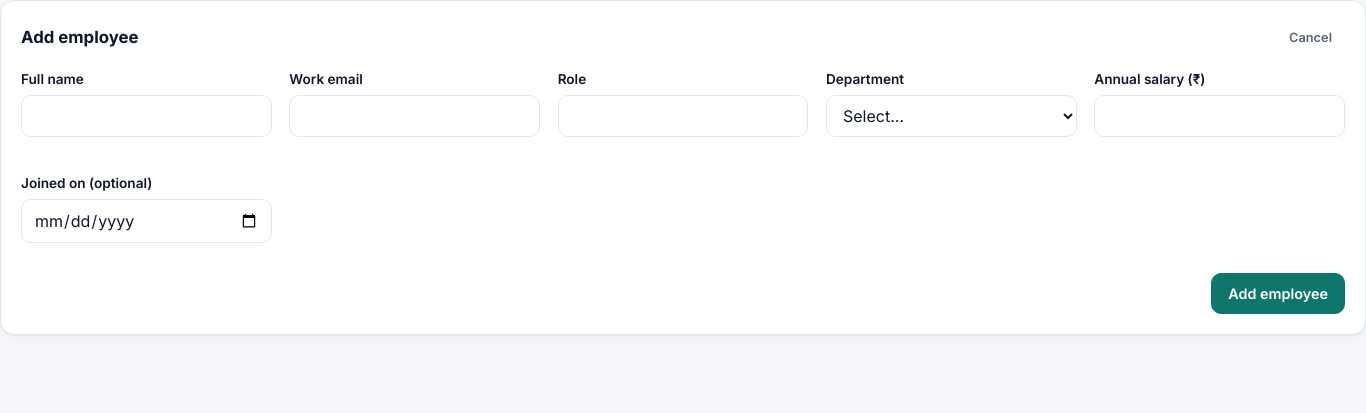
Test: EmployeeForm › shows other server errors at the top of the form
Type "  Asha Rao " into the field labelled "Full name". click: (146, 116)
box: x1=21 y1=95 x2=272 y2=137
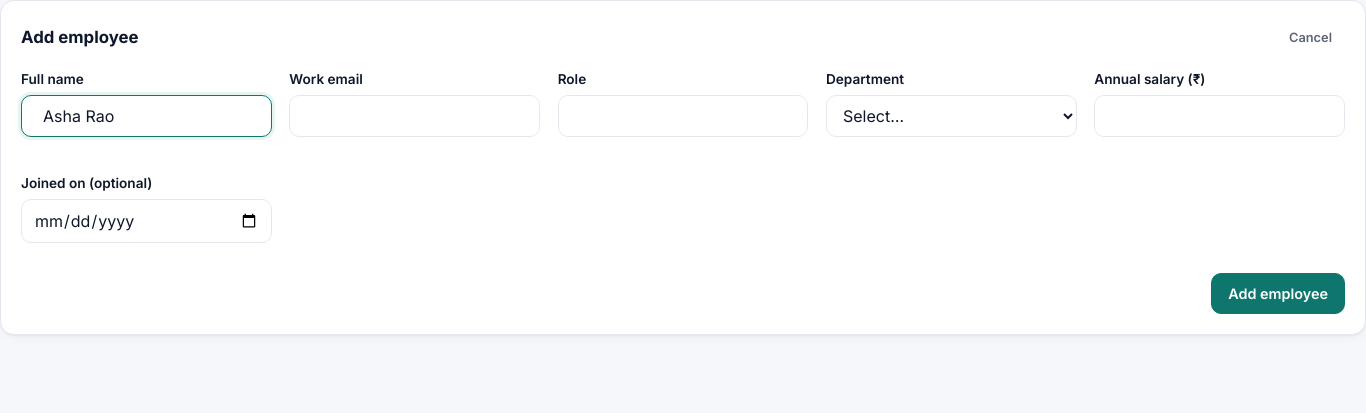
Type "asha.rao@teamdesk.dev" into the field labelled "Work email". click: (415, 116)
box: x1=289 y1=95 x2=540 y2=137
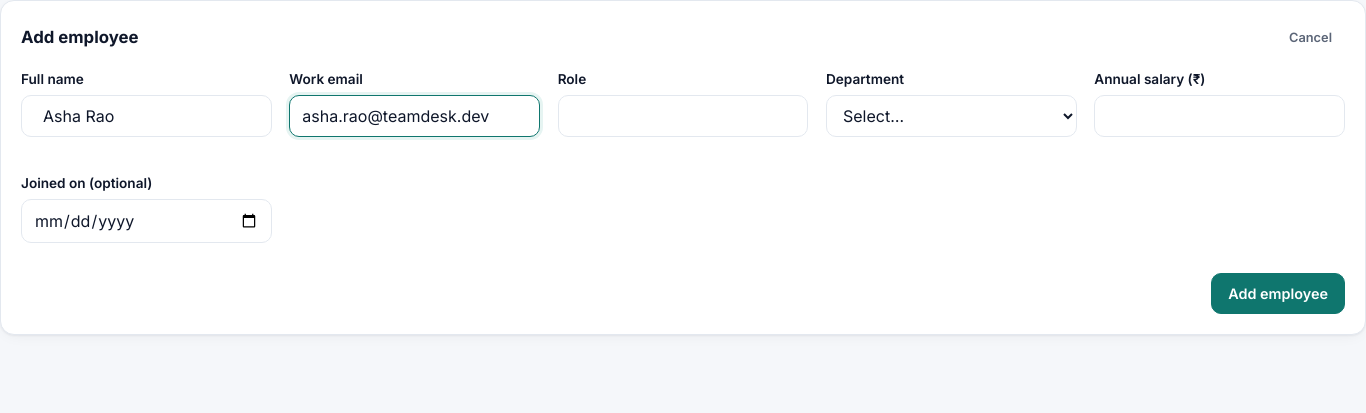
Type "Backend Engineer" into the field labelled "Role". click: (683, 116)
box: x1=558 y1=95 x2=808 y2=137
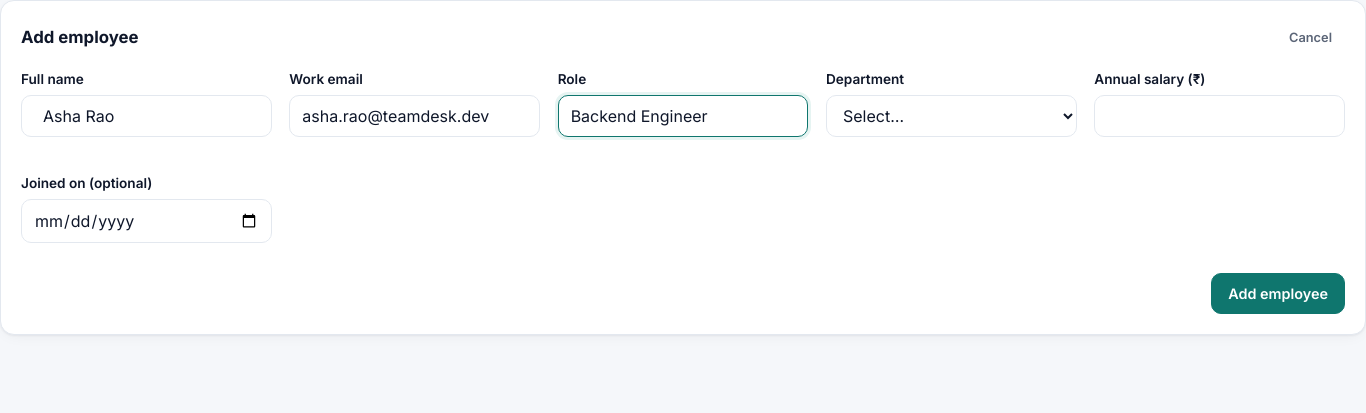
Select "Design" in the dropdown labelled "Department". click: (951, 116)
box: x1=826 y1=95 x2=1077 y2=137
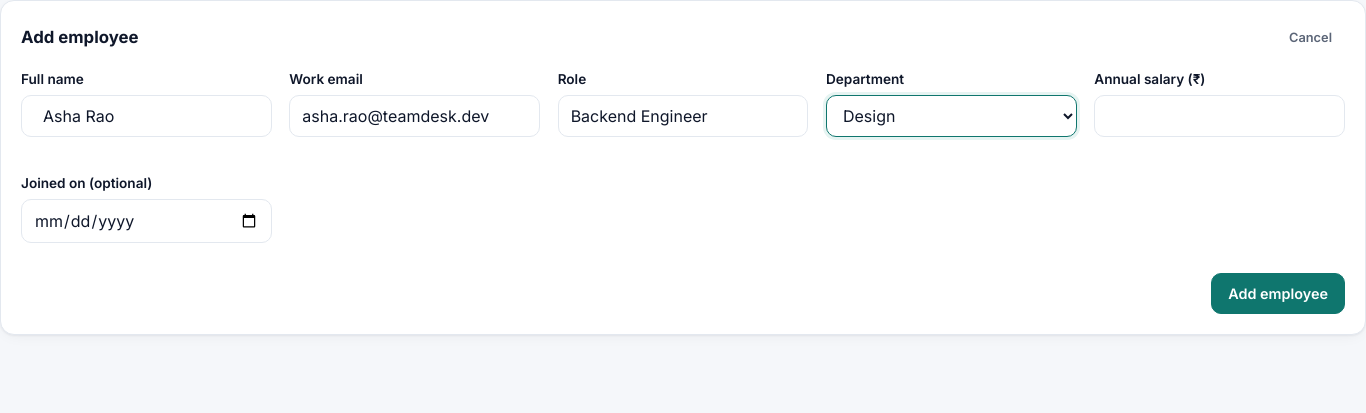
Type "1450000" into the number field labelled "Annual salary (₹)". click: (1220, 116)
box: x1=1094 y1=95 x2=1345 y2=137
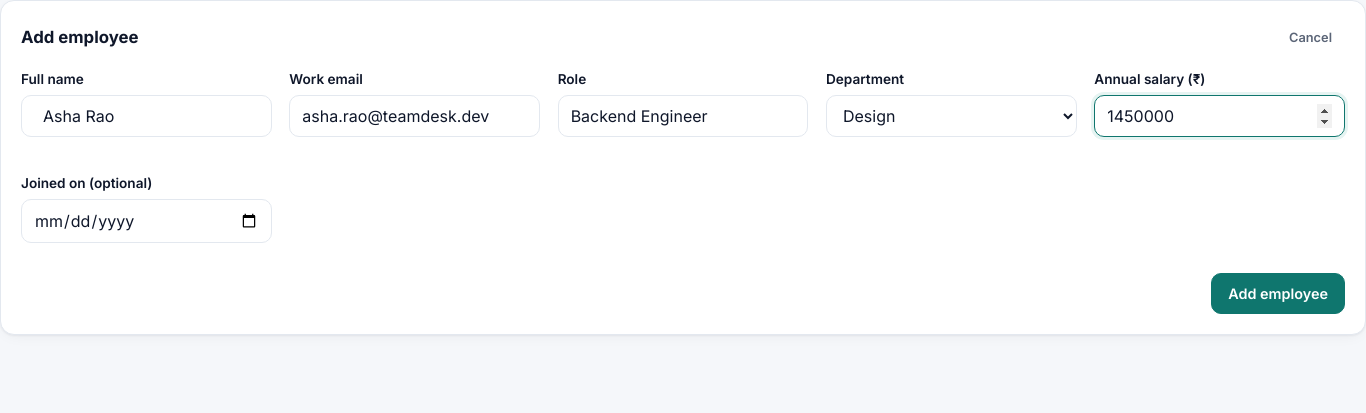
Click the button "Add employee". click: (1278, 294)
box: x1=1211 y1=273 x2=1345 y2=314
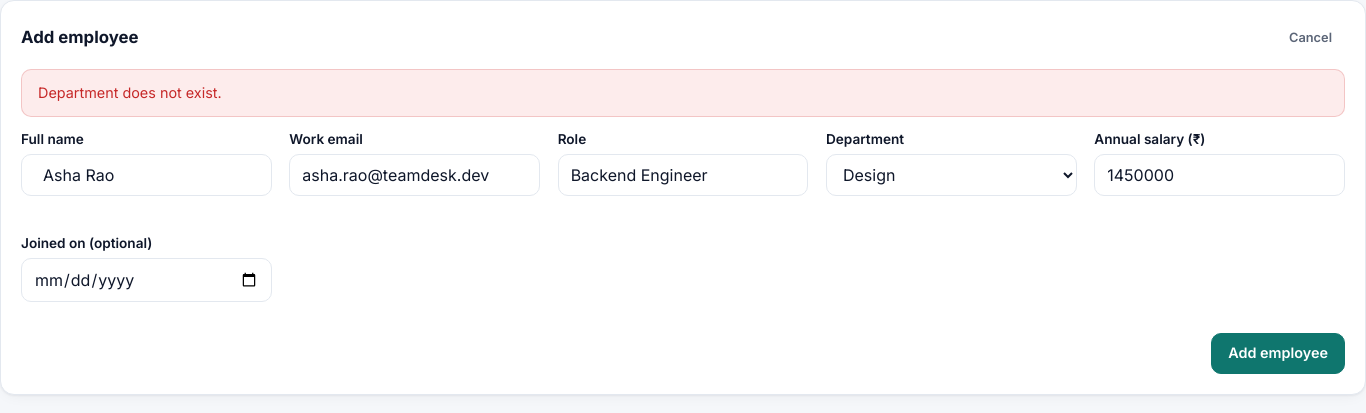
Expected: the message reads "Department does not exist.", x1=38 y1=84 x2=222 y2=101
